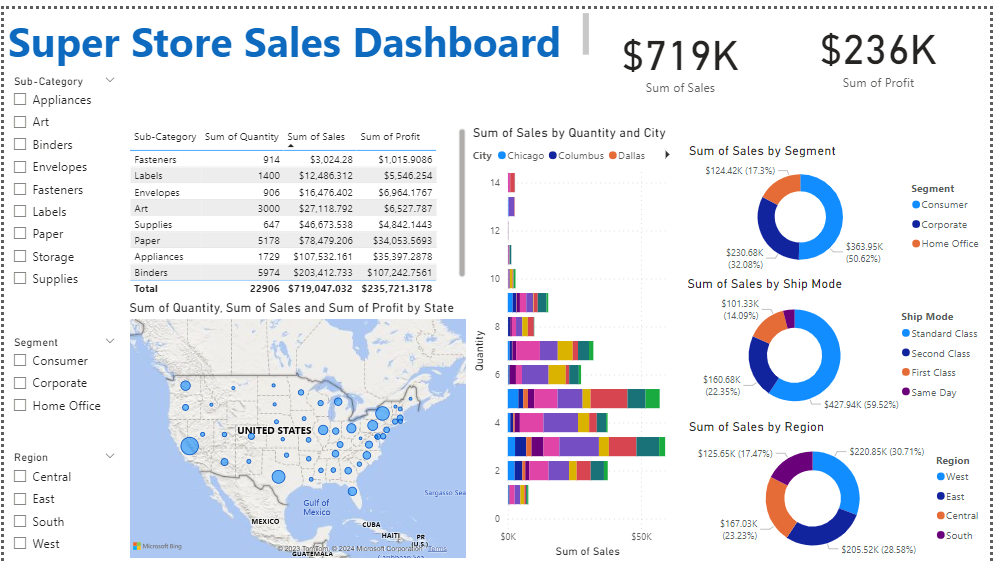

This screenshot's page, from the dashboard's own definition file:
{"tool":"powerbi","page":{"name":"Page 1","canvas":[1280,720],"ordinal":0},"visuals":[{"type":"textbox","box":[0,0,764.5,79.5],"z":0},{"type":"slicer","fields":{"Values":["SampleSuperstore_Power BI_My_working.Sub-Category"]},"box":[0,247.6,156.9,172],"z":1000},{"type":"slicer","fields":{"Values":["SampleSuperstore_Power BI_My_working.Category"]},"box":[0,98.3,156.9,149.3],"z":2000},{"type":"slicer","fields":{"Values":["SampleSuperstore_Power BI_My_working.Segment"]},"box":[0,419.5,156.9,149.3],"z":3000},{"type":"slicer","fields":{"Values":["SampleSuperstore_Power BI_My_working.Region"]},"box":[0,568.8,156.9,151.2],"z":4000},{"type":"donutChart","fields":{"Y":["Sum(SampleSuperstore_Power BI_My_working.Sales)"],"Category":["SampleSuperstore_Power BI_My_working.Segment"]},"box":[883.7,173.2,395.8,173.2],"z":5000},{"type":"donutChart","fields":{"Y":["Sum(SampleSuperstore_Power BI_My_working.Sales)"],"Category":["SampleSuperstore_Power BI_My_working.Region"]},"box":[883.7,532.5,395.8,187.5],"z":6000},{"type":"donutChart","fields":{"Y":["Sum(SampleSuperstore_Power BI_My_working.Sales)"],"Category":["SampleSuperstore_Power BI_My_working.Ship Mode"]},"box":[882.1,346.5,395.8,186],"z":7000},{"type":"donutChart","fields":{"Y":["Sum(SampleSuperstore_Power BI_My_working.Sales)"],"Category":["SampleSuperstore_Power BI_My_working.Category"]},"box":[883.7,0,395.8,173.2],"z":8000},{"type":"tableEx","fields":{"Values":["SampleSuperstore_Power BI_My_working.Sub-Category","Sum(SampleSuperstore_Power BI_My_working.Quantity)","Sum(SampleSuperstore_Power BI_My_working.Sales)","Sum(SampleSuperstore_Power BI_My_working.Profit)"]},"box":[157.4,149.4,446.6,227.3],"z":9000},{"type":"card","fields":{"Values":["Sum(SampleSuperstore_Power BI_My_working.Sales)"]},"box":[157.4,79.5,446.6,69.9],"z":10000},{"type":"card","fields":{"Values":["Sum(SampleSuperstore_Power BI_My_working.Profit)"]},"box":[604,79.5,279.7,69.9],"z":11000},{"type":"barChart","fields":{"Y":["Sum(SampleSuperstore_Power BI_My_working.Sales)"],"Category":["SampleSuperstore_Power BI_My_working.Quantity"],"Series":["SampleSuperstore_Power BI_My_working.City"]},"box":[604.6,149.7,276.7,566.7],"z":12000},{"type":"map","fields":{"Category":["SampleSuperstore_Power BI_My_working.State"],"Size":["Sum(SampleSuperstore_Power BI_My_working.Quantity)"]},"box":[157.3,377.2,447.3,339.3],"z":13000}]}

Visuals, with their boxes in screenshot pixels (x1, y1, x2, y2), scaled from the page's 1280x720 canvas onto the 993x563 screenshot:
textbox: box=[0, 0, 593, 62]
slicer - SampleSuperstore_Power BI_My_working.Sub-Category: box=[0, 194, 122, 328]
slicer - SampleSuperstore_Power BI_My_working.Category: box=[0, 77, 122, 194]
slicer - SampleSuperstore_Power BI_My_working.Segment: box=[0, 328, 122, 445]
slicer - SampleSuperstore_Power BI_My_working.Region: box=[0, 445, 122, 562]
donutChart - Sum(SampleSuperstore_Power BI_My_working.Sales) x SampleSuperstore_Power BI_My_working.Segment: box=[686, 135, 992, 271]
donutChart - Sum(SampleSuperstore_Power BI_My_working.Sales) x SampleSuperstore_Power BI_My_working.Region: box=[686, 416, 992, 562]
donutChart - Sum(SampleSuperstore_Power BI_My_working.Sales) x SampleSuperstore_Power BI_My_working.Ship Mode: box=[684, 271, 991, 416]
donutChart - Sum(SampleSuperstore_Power BI_My_working.Sales) x SampleSuperstore_Power BI_My_working.Category: box=[686, 0, 992, 135]
tableEx - SampleSuperstore_Power BI_My_working.Sub-Category x Sum(SampleSuperstore_Power BI_My_working.Quantity): box=[122, 117, 469, 295]
card - Sum(SampleSuperstore_Power BI_My_working.Sales): box=[122, 62, 469, 117]
card - Sum(SampleSuperstore_Power BI_My_working.Profit): box=[469, 62, 686, 117]
barChart - Sum(SampleSuperstore_Power BI_My_working.Sales) x SampleSuperstore_Power BI_My_working.Quantity: box=[469, 117, 684, 560]
map - SampleSuperstore_Power BI_My_working.State x Sum(SampleSuperstore_Power BI_My_working.Quantity): box=[122, 295, 469, 560]
